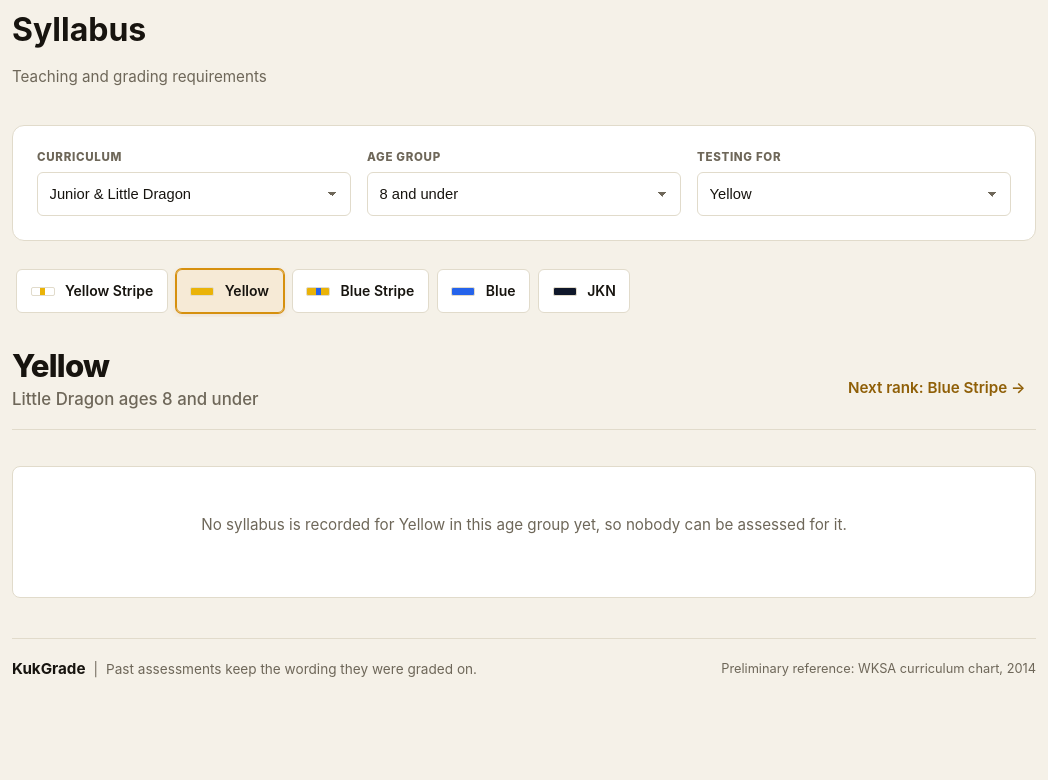
Scenario: SyllabusScreen › synchronizes curriculum track and age band selections
This screenshot has width=1048, height=780.
Expected: the dropdown labelled "Age group" shows "8 and under", [367,172,681,216]
// Change Curriculum to Adult & Youth
Select "Adult & Youth" in the dropdown labelled "Curriculum" at (194, 194), box [37,172,351,216]
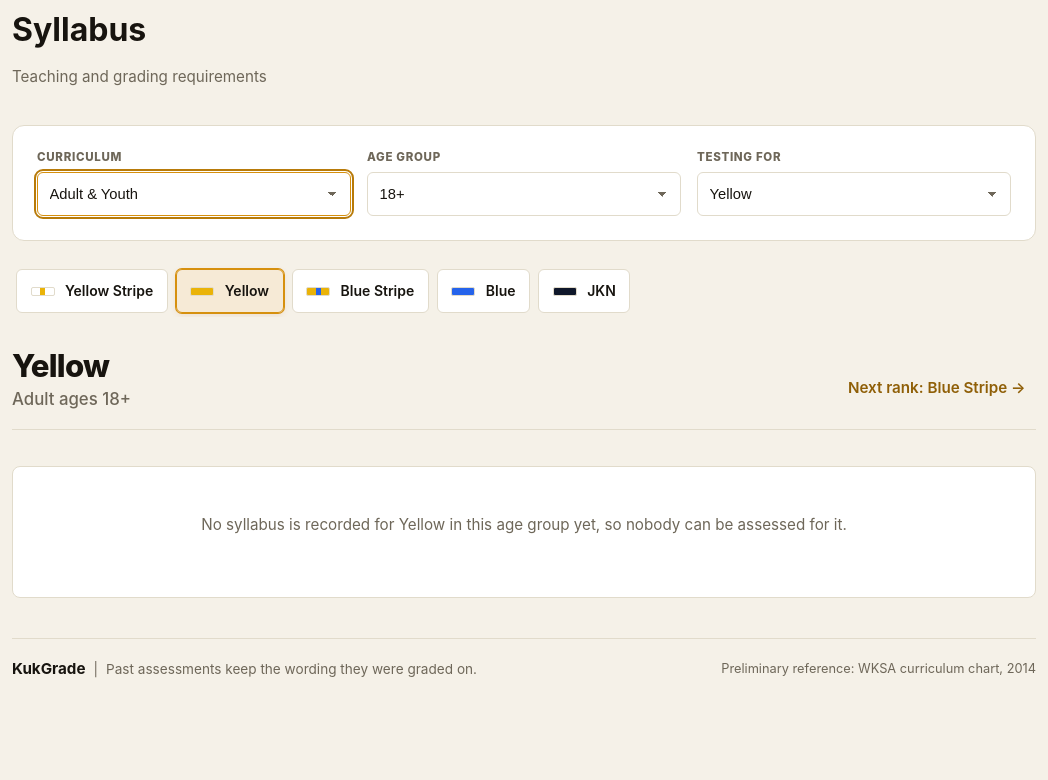
Result: the dropdown labelled "Age group" shows "18+"
Result: the text "Adult ages 18+" is shown at [12,389,131,409]
// Change Age group to 8 and under
Select "8 and under" in the dropdown labelled "Age group" at (524, 194), box [367,172,681,216]
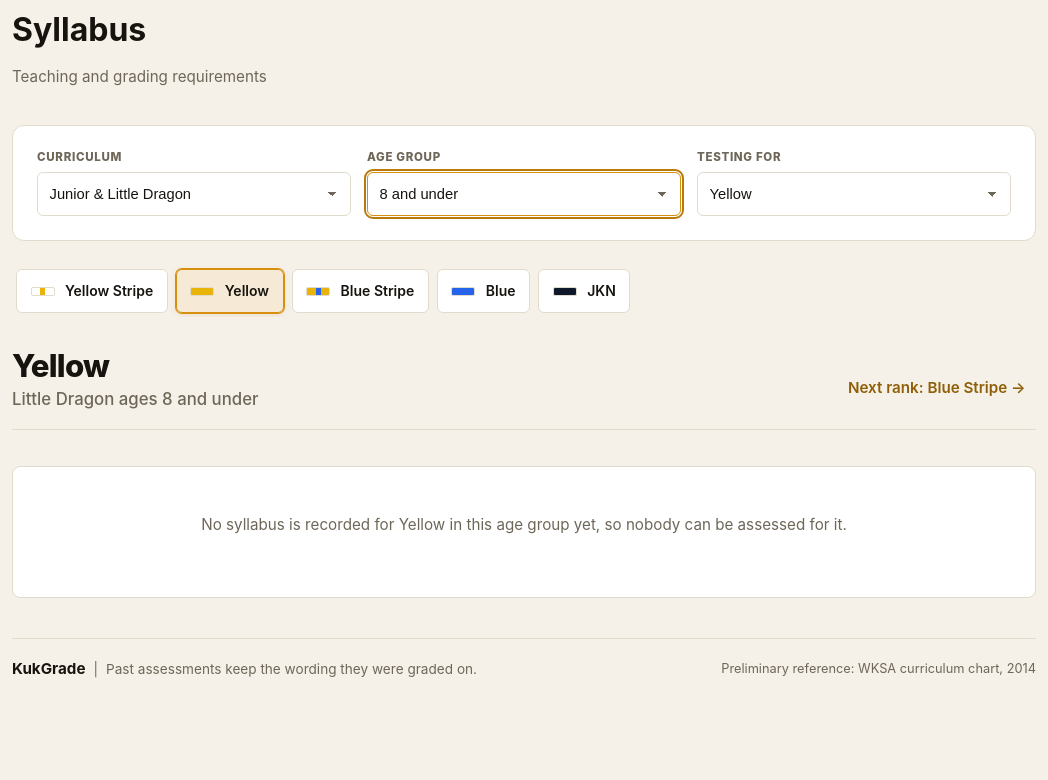
Result: the text "Little Dragon ages 8 and under" is shown at [12,389,258,409]
